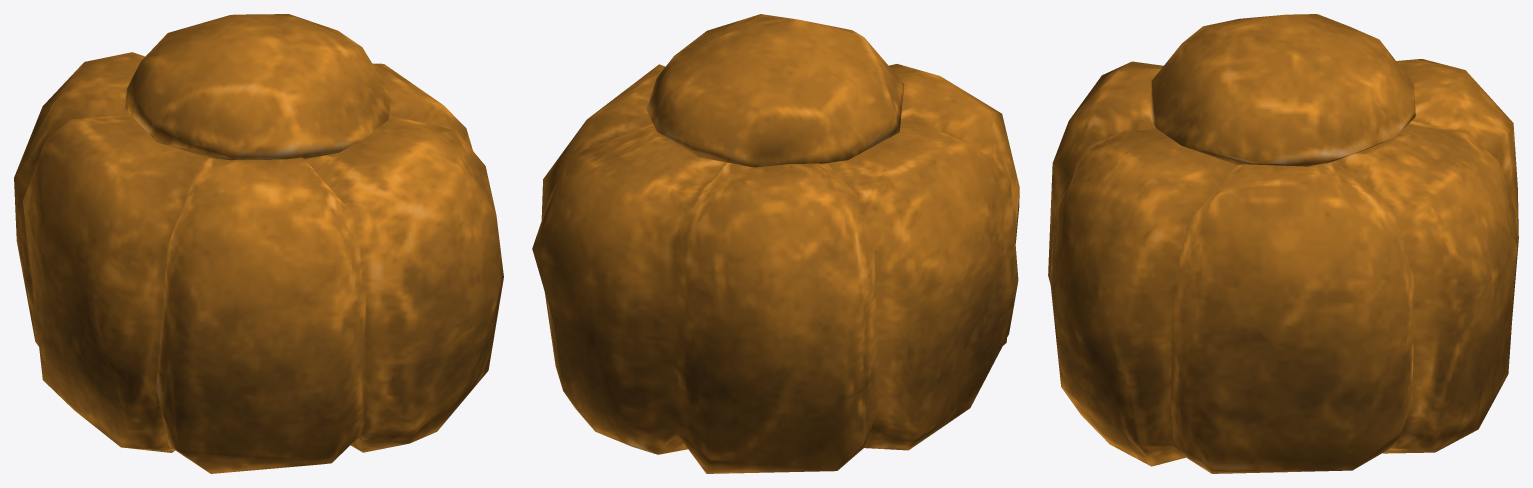
File: StoneRock.fbx
3 views of the same model, side by side, from view 1: azimuth 30°, elevation 25°; view 2: azimuth 150°, elevation 25°; view 3: azimuth 270°, elevation 25° (orthographic). The views are drawn at different scales.
Visible parts, largest first — view 1: ModelStoneRock; view 2: ModelStoneRock; view 3: ModelStoneRock.
Boxes of the visible parts, x1=… form: ModelStoneRock: x1=14, y1=14, x2=503, y2=473; ModelStoneRock: x1=532, y1=14, x2=1019, y2=473; ModelStoneRock: x1=1048, y1=14, x2=1518, y2=473.
Size of the model in its own units: 291 by 260 by 292.
Materials: 1 (1 with a texture image).
